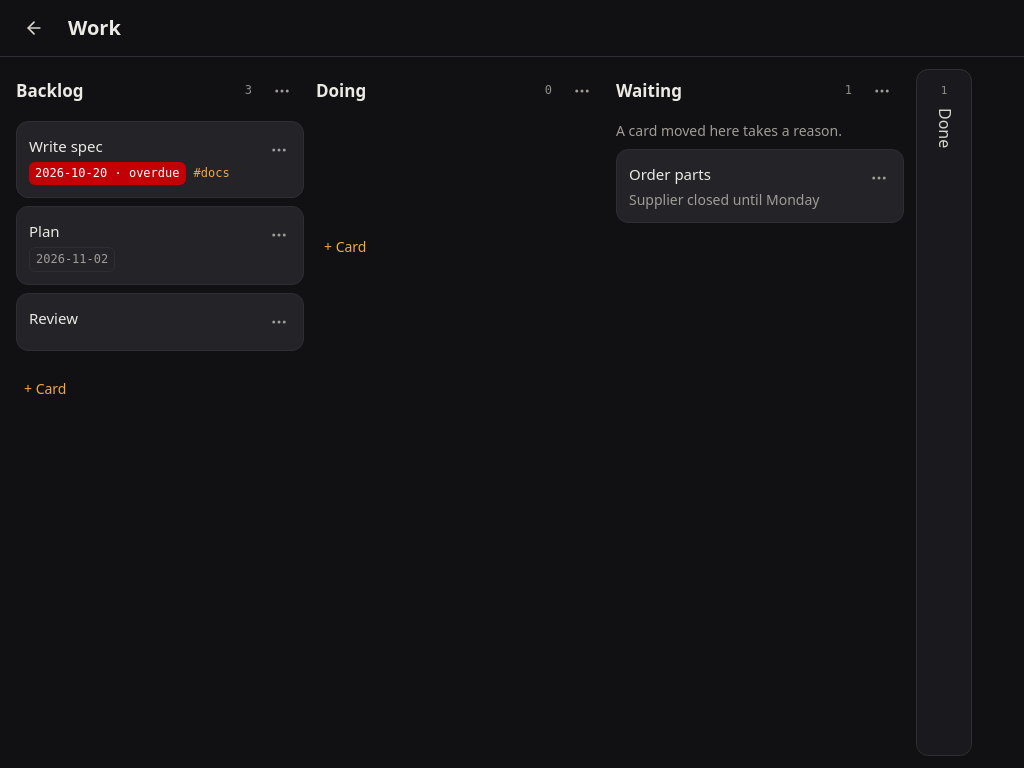
Test: the board › moves a card with Move to… and shows the new board
This screenshot has width=1024, height=768.
Click the button named "Actions for Plan".
click(279, 235)  # box top-left (257, 213), bottom-right (301, 257)
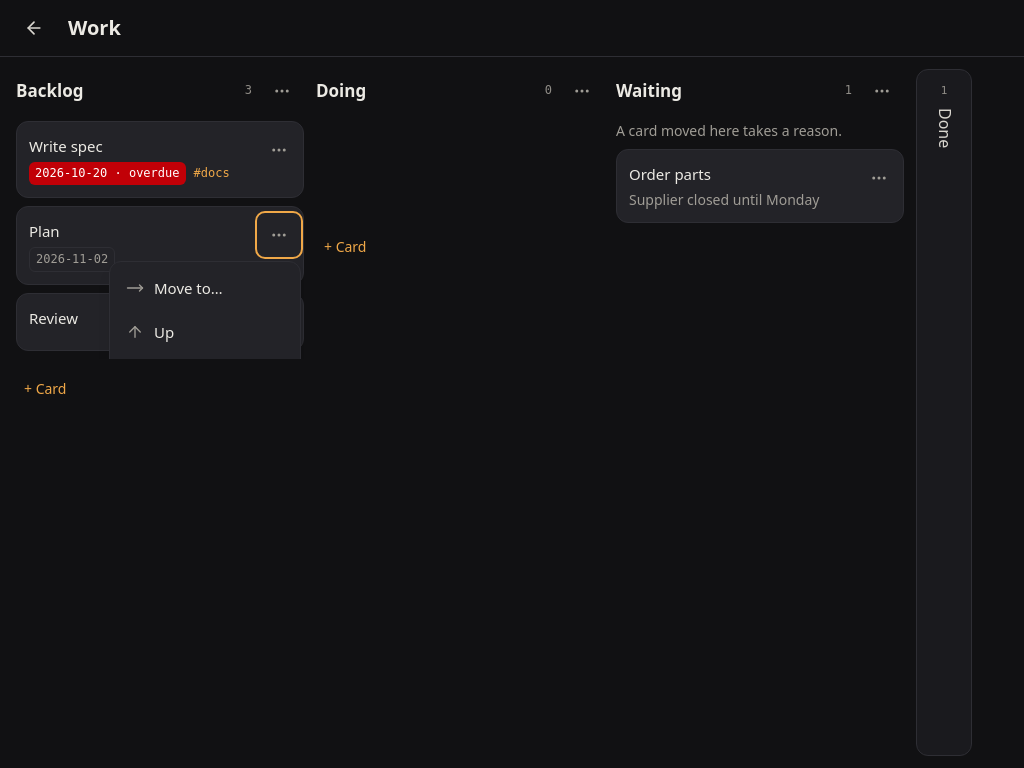
Click the menu item "Move to…".
click(205, 288)  # box top-left (114, 266), bottom-right (296, 310)
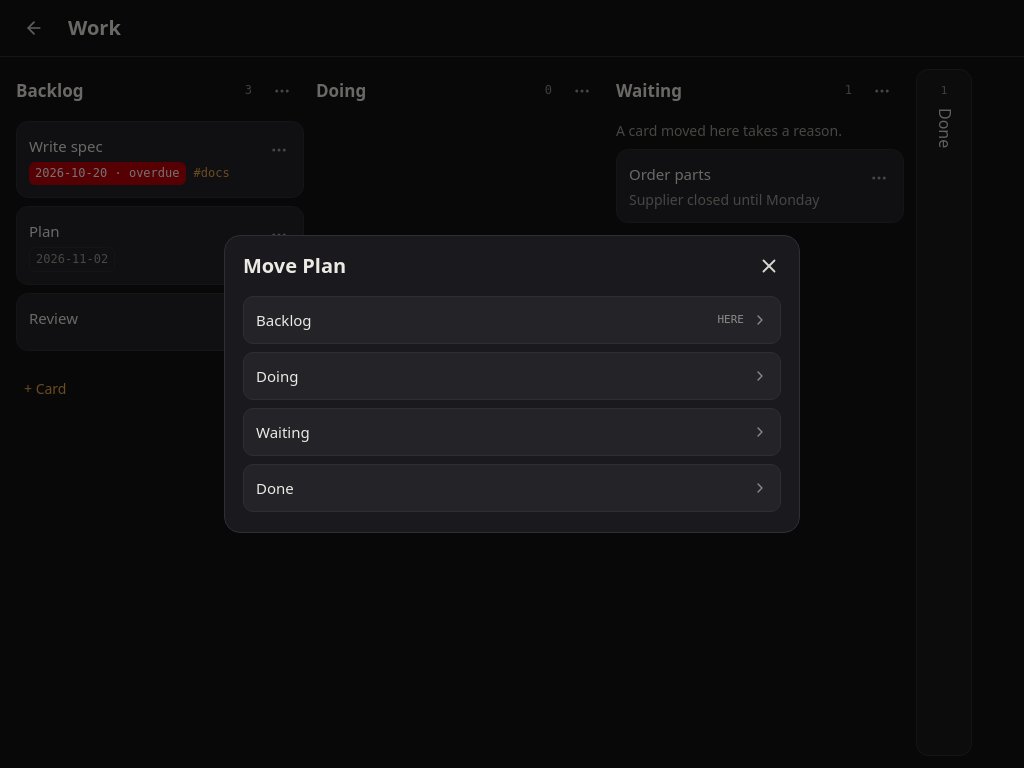
Click the button "Doing".
click(277, 376)  # box top-left (243, 352), bottom-right (781, 400)
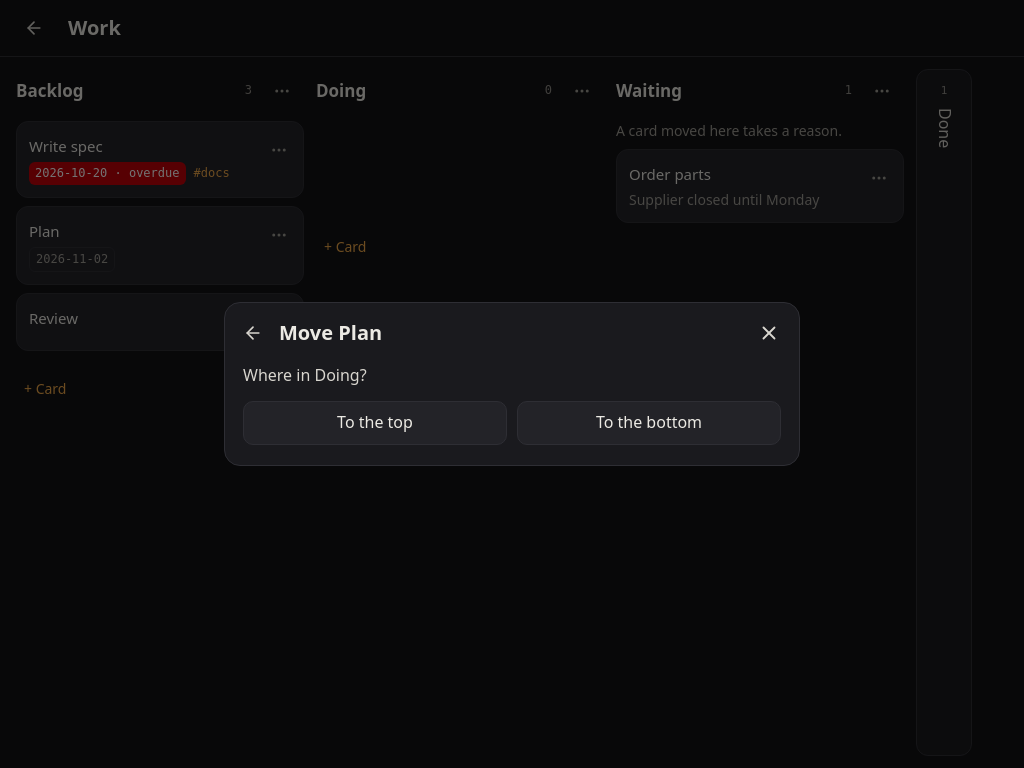
Click the button "To the top".
click(375, 423)  # box top-left (243, 401), bottom-right (507, 445)
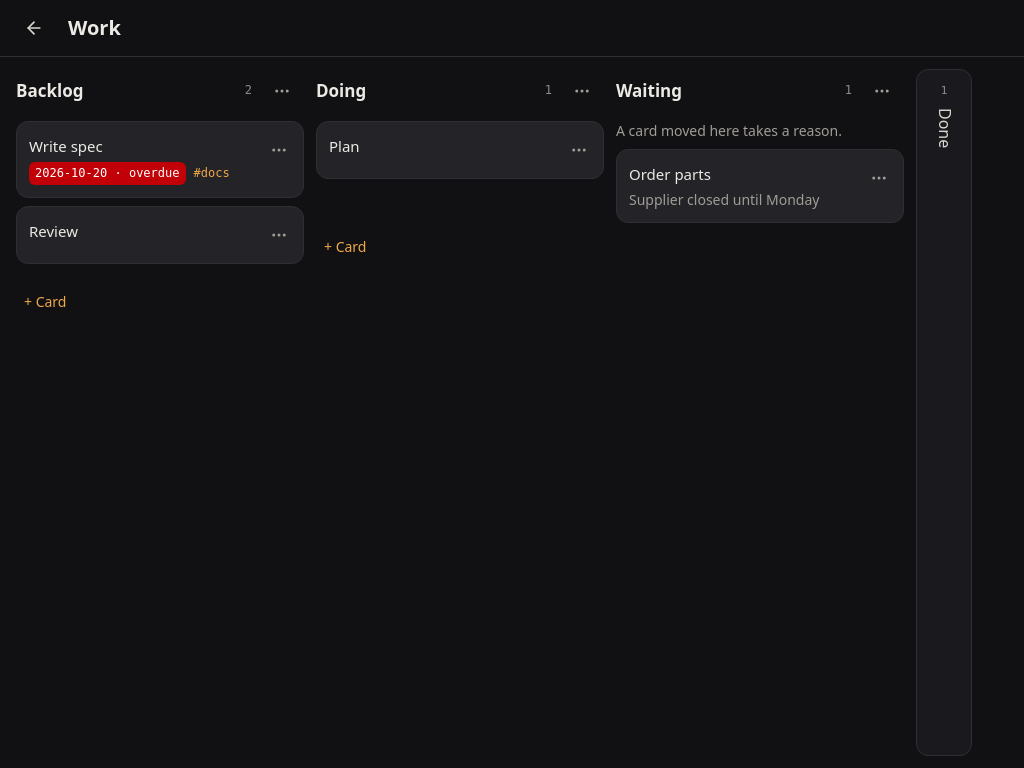
Check: the link "Plan" is shown, box top-left (329, 136), bottom-right (360, 156)
Check: the dialog is gone
